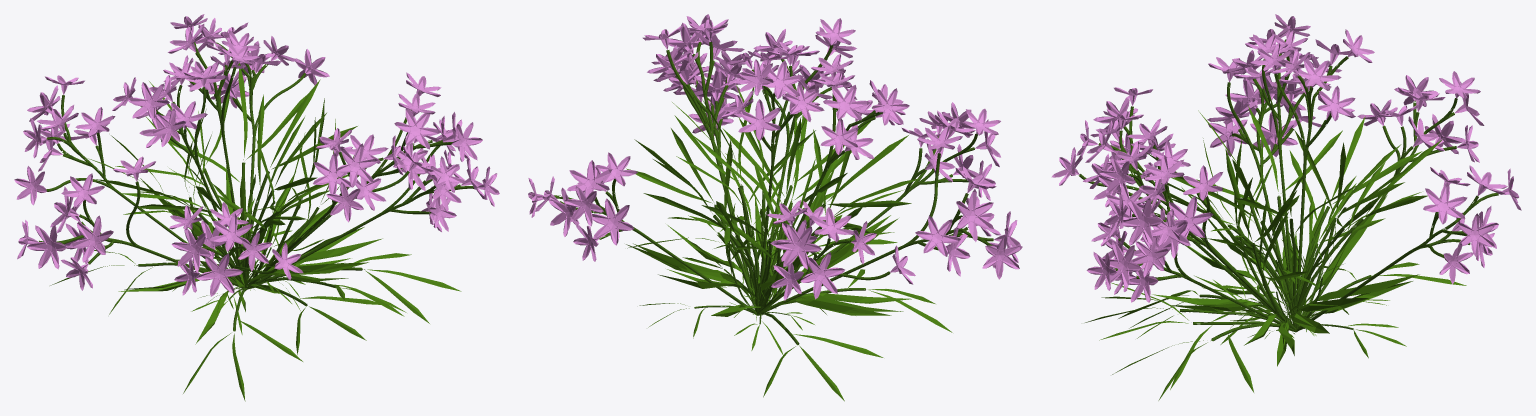
The model's file is flower.fbx.
The picture shows the model from 3 angles, left to right: view 1: azimuth 30°, elevation 25°; view 2: azimuth 150°, elevation 25°; view 3: azimuth 270°, elevation 25°; orthographic projection. The views are drawn at different scales.
Visible parts, largest first — view 1: Flowers, Grass, Stems; view 2: Flowers, Grass, Stems; view 3: Flowers, Grass, Stems.
Boxes of the visible parts, left/top/right/bottom form: Flowers: left=14, top=14, right=499, bottom=296; Grass: left=50, top=63, right=461, bottom=401; Stems: left=39, top=42, right=473, bottom=331; Flowers: left=528, top=14, right=1022, bottom=300; Grass: left=626, top=85, right=952, bottom=401; Stems: left=554, top=42, right=993, bottom=345; Flowers: left=1051, top=14, right=1521, bottom=302; Grass: left=1085, top=106, right=1466, bottom=400; Stems: left=1078, top=39, right=1498, bottom=341.
Size of the model in its own units: 72.09 by 50.23 by 67.68.
